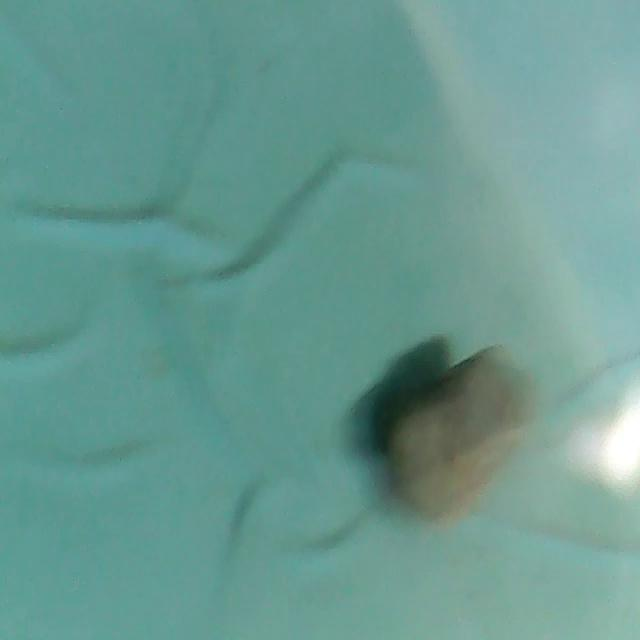rock: (374, 336, 542, 533)
